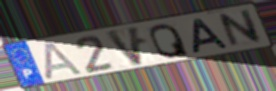2: (75, 34, 117, 75)
A: (43, 40, 86, 81), (191, 16, 232, 55)
N: (217, 8, 265, 50)
Q: (148, 22, 192, 60)
V: (102, 24, 146, 68)
